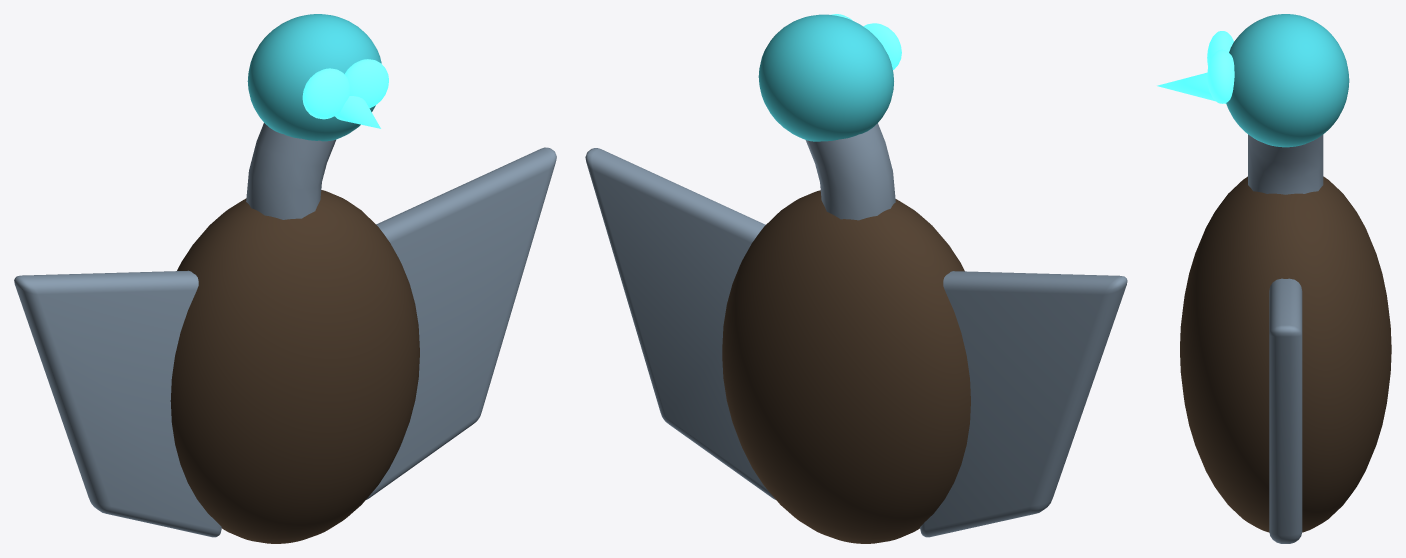
Rendered from avian_v5.glb.
The picture shows the model from 3 angles, left to right: view 1: azimuth 30°, elevation 25°; view 2: azimuth 150°, elevation 25°; view 3: azimuth 270°, elevation 25°; orthographic projection.
Visible parts, largest first — view 1: VULTURE_BODY_SECONDARY, VULTURE_WING_PRIMARY, VULTURE_WING_PRIMARY.001, VULTURE_HEAD_ACCENT, VULTURE_NECK_PRIMARY, EYE_EMISSIVE, EYE_EMISSIVE.001, VULTURE_BEAK_EMISSIVE; view 2: VULTURE_BODY_SECONDARY, VULTURE_WING_PRIMARY, VULTURE_WING_PRIMARY.001, VULTURE_HEAD_ACCENT, VULTURE_NECK_PRIMARY, EYE_EMISSIVE; view 3: VULTURE_BODY_SECONDARY, VULTURE_HEAD_ACCENT, VULTURE_WING_PRIMARY.001, VULTURE_NECK_PRIMARY, EYE_EMISSIVE.001, VULTURE_BEAK_EMISSIVE, EYE_EMISSIVE.
Boxes of the visible parts, x1,y1,x2,y2 form: VULTURE_BODY_SECONDARY: (170,190,419,543); VULTURE_WING_PRIMARY: (14,270,221,537); VULTURE_WING_PRIMARY.001: (366,147,556,499); VULTURE_HEAD_ACCENT: (247,14,381,141); VULTURE_NECK_PRIMARY: (246,123,335,219); EYE_EMISSIVE: (302,68,349,119); EYE_EMISSIVE.001: (344,59,388,108); VULTURE_BEAK_EMISSIVE: (335,96,380,128); VULTURE_BODY_SECONDARY: (722,190,970,543); VULTURE_WING_PRIMARY: (920,271,1127,537); VULTURE_WING_PRIMARY.001: (585,148,775,499); VULTURE_HEAD_ACCENT: (758,14,893,141); VULTURE_NECK_PRIMARY: (805,123,895,220); EYE_EMISSIVE: (863,23,901,69); VULTURE_BODY_SECONDARY: (1180,176,1391,532); VULTURE_HEAD_ACCENT: (1226,14,1349,147); VULTURE_WING_PRIMARY.001: (1269,278,1302,543); VULTURE_NECK_PRIMARY: (1248,134,1323,194); EYE_EMISSIVE.001: (1207,49,1234,103); VULTURE_BEAK_EMISSIVE: (1157,72,1226,103); EYE_EMISSIVE: (1207,31,1233,66).
Bounding box in the file's own units: 2.09 × 1.9 × 0.78.
